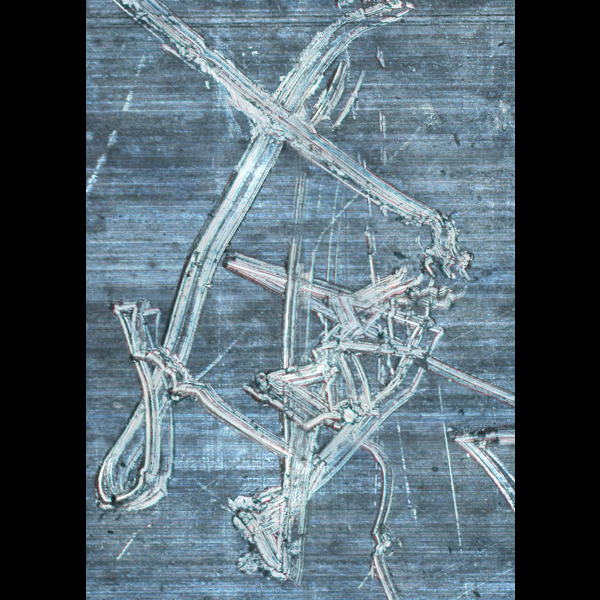d: (138, 0, 458, 279), (232, 216, 474, 457), (92, 281, 210, 527), (217, 448, 321, 591), (335, 433, 401, 599), (435, 405, 514, 525)
